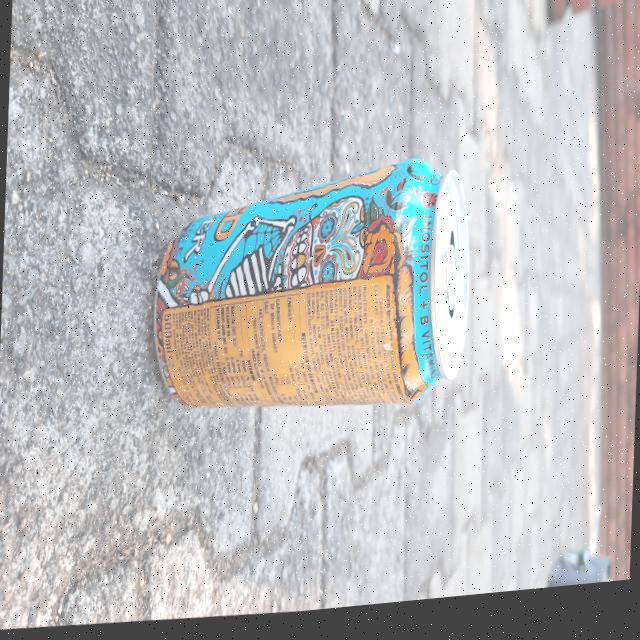Monster Mango Loco: (154, 151, 474, 443)
